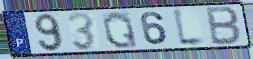3: (66, 11, 98, 52)
6: (140, 11, 169, 47)
9: (32, 12, 65, 53)
B: (205, 6, 243, 47)
L: (171, 6, 209, 48)
Q: (101, 10, 140, 50)
